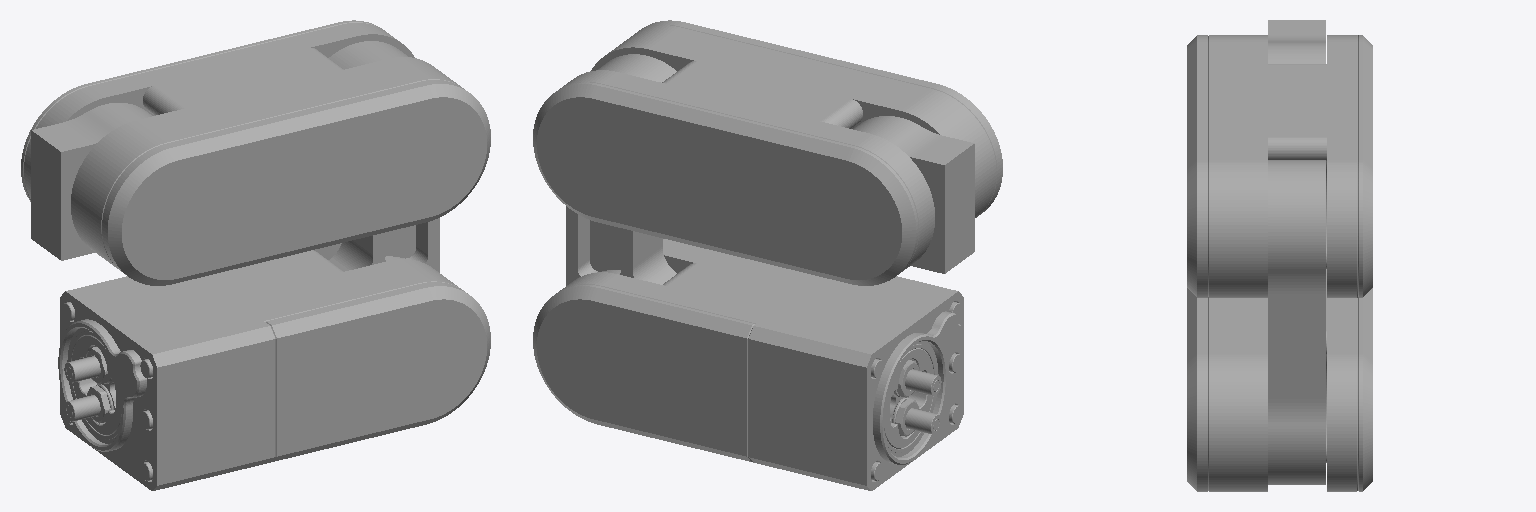
The robot description file, URDF, robot "arm61":
<?xml version="1.0"?>

<!-- URDF and models created by [author] 30-10-2023 -->

<robot name="arm61">

  <material name="blue">
    <color rgba="0 0 0.8 1"/>
  </material>

  <material name="black">
    <color rgba="0 0 0 1"/>
  </material>

  <material name="white">
    <color rgba="1 1 1 1"/>
  </material>

  <material name="grey">
    <color rgba="0.7 0.7 0.7 1"/>
  </material>

  <material name="amber">
    <color rgba="1 0.75 0 1"/>
  </material>

  <!-- LINKS -->
  <link name="base">
    <visual>
      <geometry>
        <mesh filename="package://arm61/urdf/highPoly/base.stl" scale="0.001 0.001 0.001"/>
      </geometry>
      <origin rpy="0 0 0" xyz="0 0 0"/>
      <material name="grey"/>
    </visual>
  </link>

  <link name="shoulder">
    <visual>
      <geometry>
        <mesh filename="package://arm61/urdf/highPoly/shoulder.stl" scale="0.001 0.001 0.001"/>
      </geometry>
      <origin rpy="0 0 0" xyz="0 0 0"/>
      <material name="grey"/>
    </visual>
  </link>

  <link name="elbow">
    <visual>
      <geometry>
        <mesh filename="package://arm61/urdf/highPoly/elbow.stl" scale="0.001 0.001 0.001"/>
      </geometry>
      <origin rpy="0 0 0" xyz="0 0 0"/>
      <material name="grey"/>
    </visual>
  </link>

  <link name="wrist">
    <visual>
      <geometry>
        <mesh filename="package://arm61/urdf/highPoly/wrist.stl" scale="0.001 0.001 0.001"/>
      </geometry>
      <origin rpy="0 0 0" xyz="0 0 0"/>
      <material name="grey"/>
    </visual>
  </link>

  <link name="endEffector">
    <visual>
      <geometry>
        <mesh filename="package://arm61/urdf/highPoly/endEffector.stl" scale="0.001 0.001 0.001"/>
      </geometry>
      <origin rpy="0 0 0" xyz="0 0 0"/>
      <material name="grey"/>
    </visual>
  </link>

<!-- JOINTS -->

  <joint name="joint_1" type="revolute">
    <axis xyz="0 0 -1"/>
    <!-- Joint limits -65 deg to + 65 deg  -->
    <limit effort="1000.0" lower="-1.134464" upper="1.134464" velocity="0.5"/>
    <origin rpy="1.570796 0 0" xyz="0.025 0.0 0.0"/>
    <parent link="base"/>
    <child link="shoulder"/>
  </joint>

  <joint name="joint_2" type="revolute">
    <axis xyz="0 0 -1"/>
    <!-- Joint limits -155 deg to + 15 deg  -->
    <limit effort="1000.0" lower="-2.70526" upper="0.2617994" velocity="0.5"/>
    <origin rpy="0 0 -1.570796" xyz="0.085 0.0 0.0"/>
    <parent link="shoulder"/>
    <child link="elbow"/>
  </joint>

  <joint name="joint_3" type="revolute">
    <axis xyz="0 0 -1"/>
    <!-- Joint limits -155 deg to + 15 deg  -->
    <limit effort="1000.0" lower="-2.70526" upper="0.2617994" velocity="0.5"/>
    <origin rpy="0 0 -1.570796" xyz="0.065 0.0 0.0"/>
    <parent link="elbow"/>
    <child link="wrist"/>
  </joint>

  <joint name="joint_4" type="revolute">
    <axis xyz="0 0 -1"/>
    <!-- No joint limits but defined at +- 360 deg -->
    <limit effort="1000.0" lower="-6.283185" upper="6.283185" velocity="0.5"/>
    <origin rpy="1.570796 0 1.570796" xyz="0.086 0.0 0.0"/>
    <parent link="wrist"/>
    <child link="endEffector"/>
  </joint>

</robot>

--- Render facts (derived) ---
3 views of the same robot in one strip: view 1: azimuth 30°, elevation 25°; view 2: azimuth 150°, elevation 25°; view 3: azimuth 270°, elevation 25° (orthographic).
Robot: arm61 — 5 links, 4 joints (4 revolute); root link base; default pose: every joint at zero.
Links seen in each view (by area): view 1: shoulder, wrist, base, elbow, endEffector; view 2: shoulder, wrist, base, elbow, endEffector; view 3: shoulder, wrist, elbow, base.
Boxes of the visible links, box(x1,y1,x2,y2) form: shoulder: box(21, 20, 490, 285); wrist: box(58, 243, 490, 490); base: box(31, 103, 151, 260); elbow: box(329, 41, 439, 272); endEffector: box(64, 335, 121, 435); shoulder: box(533, 20, 1002, 285); wrist: box(533, 239, 963, 490); base: box(853, 116, 974, 273); elbow: box(566, 54, 676, 285); endEffector: box(884, 348, 941, 448); shoulder: box(1187, 35, 1372, 297); wrist: box(1187, 269, 1372, 491); elbow: box(1268, 160, 1325, 484); base: box(1268, 20, 1325, 63).
Bounding box of the posed robot: 0.132 × 0.0565 × 0.109 m (x, y, z).
5 mesh visuals loaded from 5 distinct referenced files (5 binary STL).
